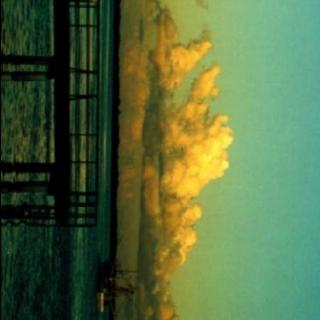Cumulus: (122, 0, 236, 320)
